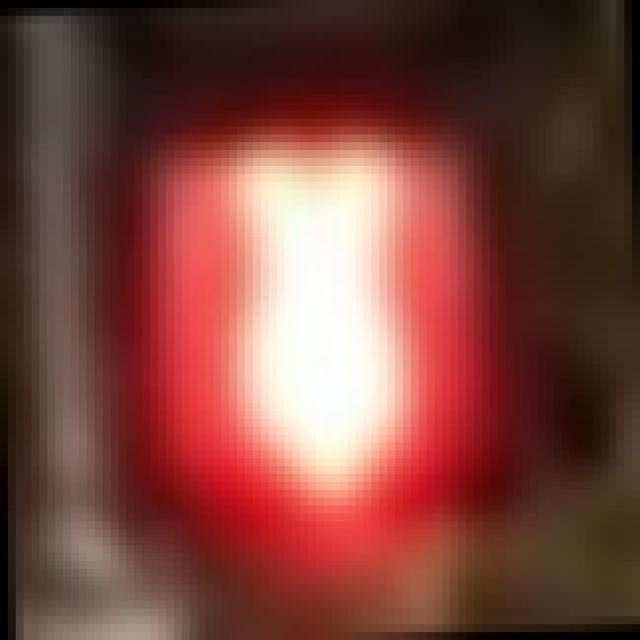red-crossing: (118, 85, 498, 536)
